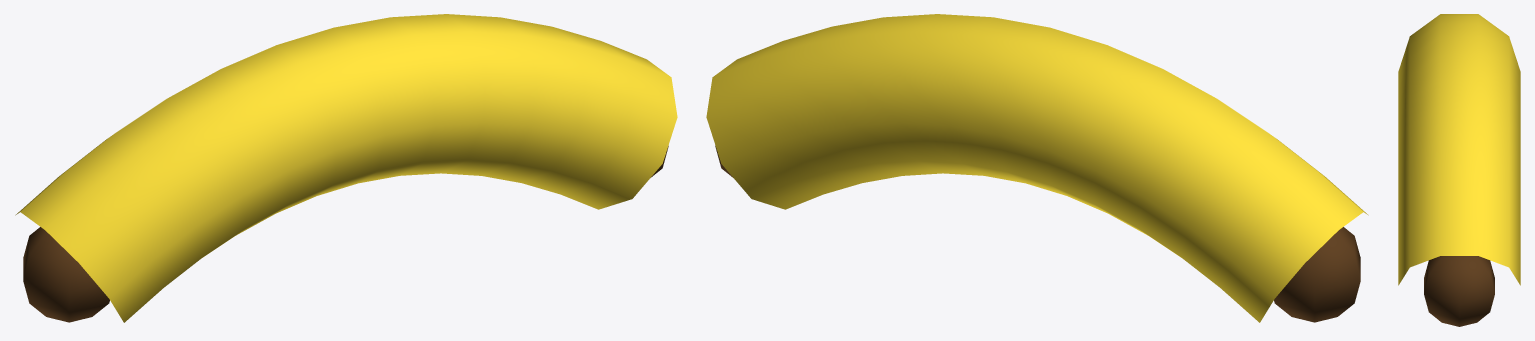
The model's file is banana.glb.
The picture shows the model from 3 angles, left to right: view 1: azimuth 30°, elevation 25°; view 2: azimuth 150°, elevation 25°; view 3: azimuth 270°, elevation 25°; orthographic projection. The views are drawn at different scales.
Visible parts, largest first — view 1: banana; view 2: banana; view 3: banana.
Boxes of the visible parts, <box> form: banana: <box>15,14,677,322</box>; banana: <box>706,14,1368,322</box>; banana: <box>1398,14,1520,326</box>.
Bounding box in the file's own units: 0.924 × 0.3045 × 0.198.
